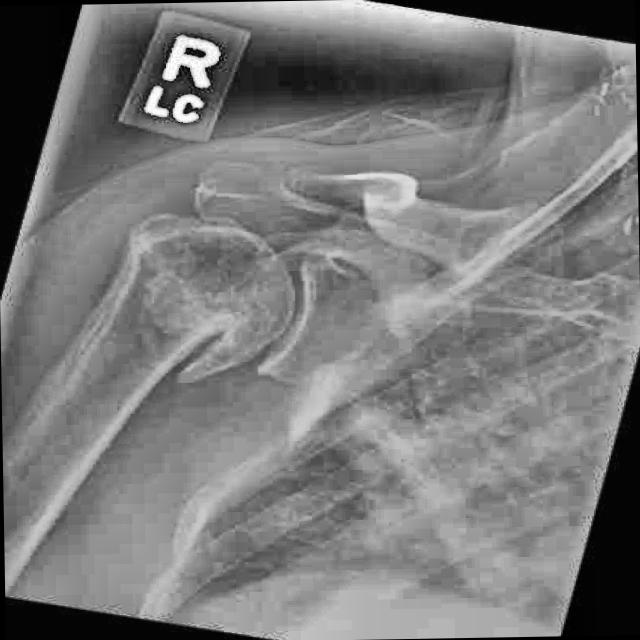shoulder fracture: (127, 292, 266, 409)
